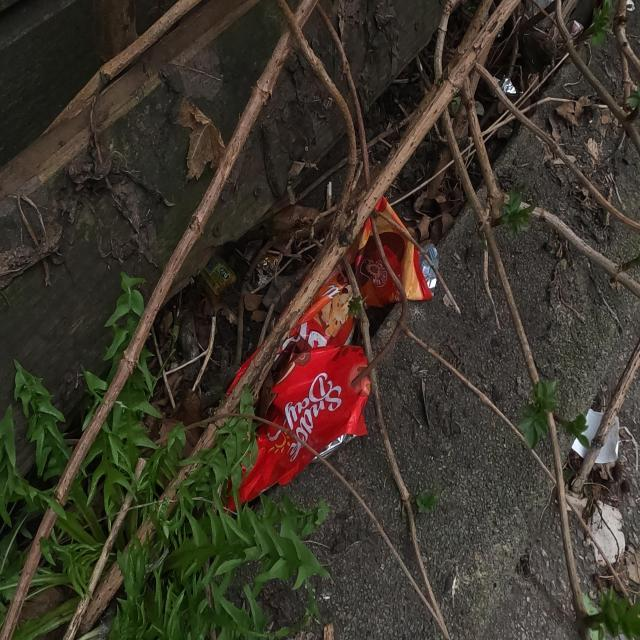Plastic: (213, 193, 441, 514), (565, 490, 626, 568), (199, 254, 237, 308), (254, 252, 280, 288)
